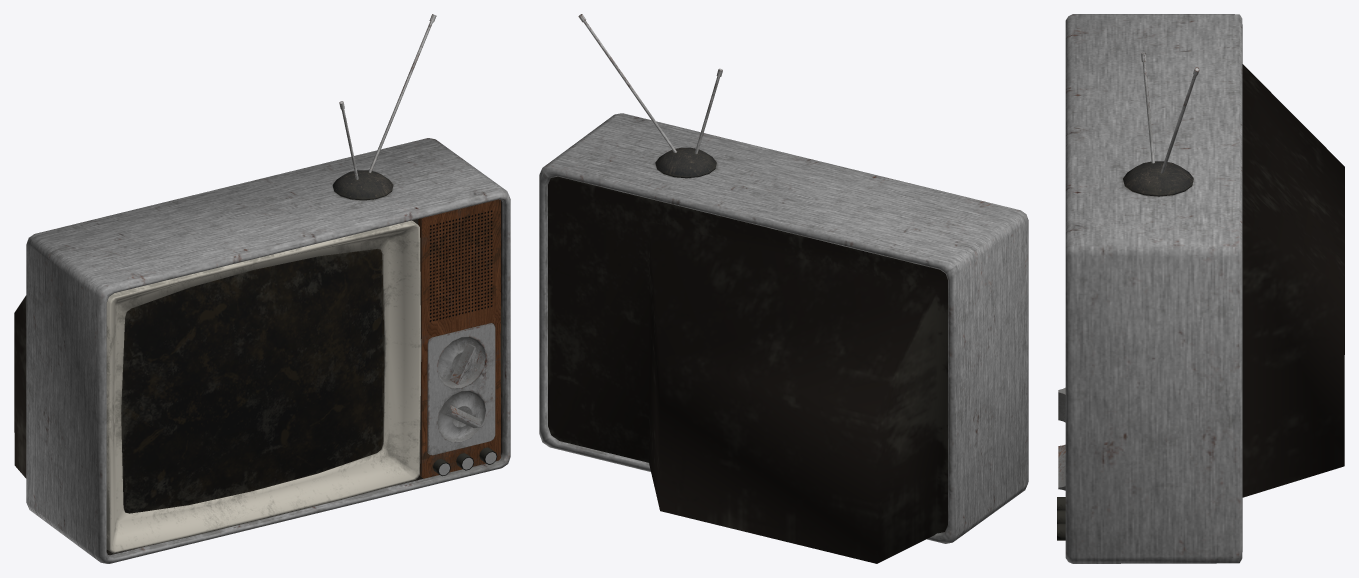
Rendered from retro_tv (2).glb.
The picture shows the model from 3 angles, left to right: view 1: azimuth 30°, elevation 25°; view 2: azimuth 150°, elevation 25°; view 3: azimuth 270°, elevation 25°; orthographic projection. The views are drawn at different scales.
Parts seen in each view (by area): view 1: Plane.002, Plane.008, Plane, Plane.010, Plane.003, Cone, Plane.004, Plane.001; view 2: Plane.004, Plane.002, Cone; view 3: Plane.002, Plane.004, Cone.
Boxes of the visible parts, x1=… form: Plane.002: x1=26, y1=138, x2=510, y2=563; Plane.008: x1=121, y1=249, x2=384, y2=513; Plane: x1=106, y1=220, x2=421, y2=553; Plane.010: x1=418, y1=199, x2=500, y2=478; Plane.003: x1=427, y1=323, x2=495, y2=455; Cone: x1=332, y1=14, x2=436, y2=200; Plane.004: x1=14, y1=295, x2=26, y2=478; Plane.001: x1=106, y1=200, x2=502, y2=555; Plane.004: x1=548, y1=176, x2=947, y2=563; Plane.002: x1=539, y1=113, x2=1028, y2=543; Cone: x1=578, y1=14, x2=722, y2=178; Plane.002: x1=1065, y1=14, x2=1242, y2=563; Plane.004: x1=1242, y1=64, x2=1344, y2=497; Cone: x1=1123, y1=52, x2=1199, y2=196.
Bounding box in the file's own units: 3.55 × 3.44 × 1.84.
1 material, 1 textured.
